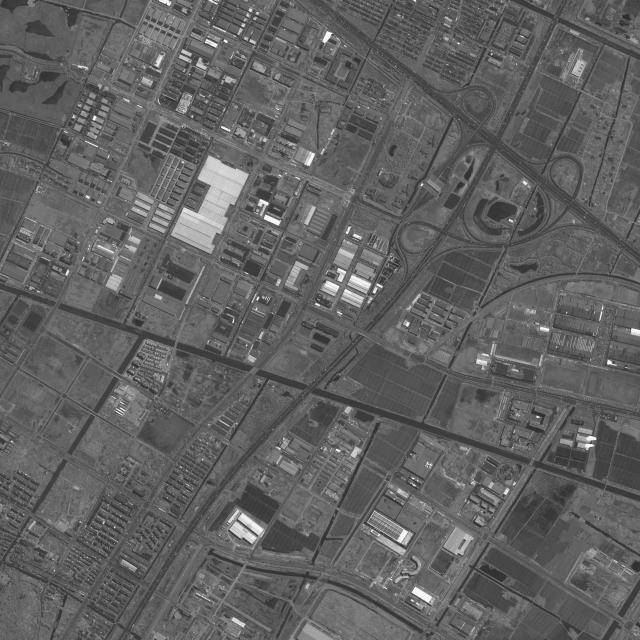storage-tank: (242, 122, 246, 126), (249, 109, 252, 112)
